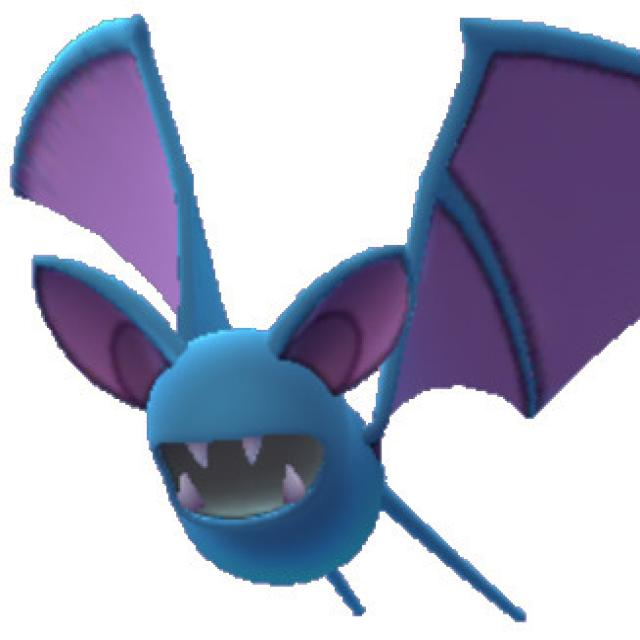Zubat: (27, 195, 537, 618)
